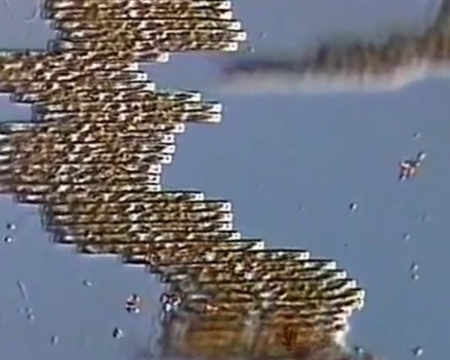fil: (1, 49, 173, 65), (41, 216, 233, 230), (49, 18, 244, 30), (57, 29, 248, 41), (162, 293, 366, 304), (31, 102, 223, 113), (48, 40, 239, 51), (12, 92, 201, 103), (39, 204, 233, 214), (75, 242, 266, 252), (160, 315, 348, 325), (1, 123, 185, 133), (41, 11, 235, 20), (31, 113, 223, 122), (53, 232, 242, 241), (159, 282, 360, 290), (1, 144, 177, 153), (160, 305, 356, 313), (1, 134, 175, 143), (1, 81, 156, 91), (1, 154, 172, 163), (16, 195, 208, 203), (1, 164, 164, 173), (1, 185, 163, 194), (1, 175, 161, 184), (43, 1, 235, 8), (147, 264, 338, 271), (159, 273, 347, 280), (157, 328, 350, 334), (121, 254, 311, 260), (1, 72, 151, 79), (1, 65, 141, 71)
